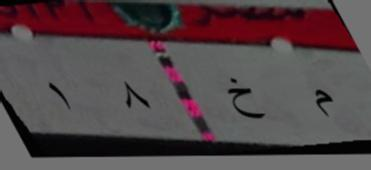1: (44, 74, 75, 118)
8: (116, 76, 156, 118)
khaa: (221, 74, 266, 124)
meem: (306, 82, 338, 122)
